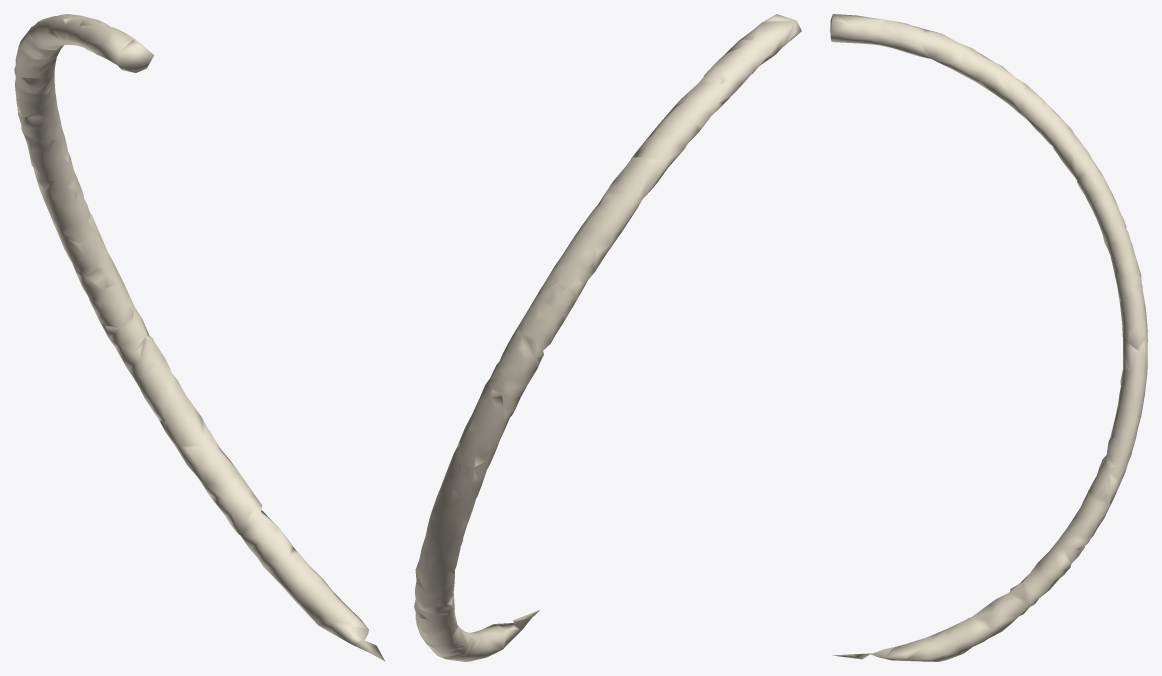
The model's file is rib_5_r.glb.
3 renders of one model, left to right at view 1: azimuth 30°, elevation 25°; view 2: azimuth 150°, elevation 25°; view 3: azimuth 270°, elevation 25°, orthographic. The views are drawn at different scales.
Parts seen in each view (by area): view 1: geometry_0; view 2: geometry_0; view 3: geometry_0.
Boxes of the visible parts, box(x1,y1,x2,y2) form: geometry_0: box(14, 14, 385, 661); geometry_0: box(414, 14, 801, 661); geometry_0: box(830, 14, 1147, 661).
Size of the model in its own units: 0.2724 by 0.6041 by 0.322.
